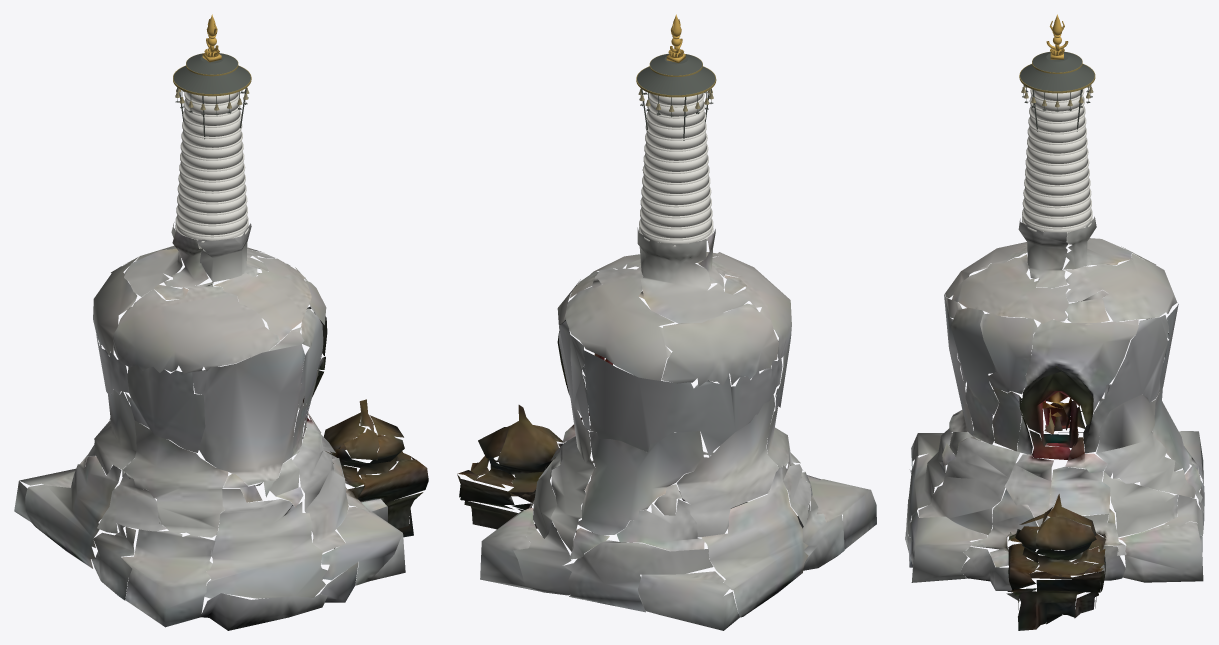
The model's file is preview.glb.
3 renders of one model, left to right at view 1: azimuth 30°, elevation 25°; view 2: azimuth 150°, elevation 25°; view 3: azimuth 270°, elevation 25°, orthographic. The views are drawn at different scales.
Visible parts, largest first — view 1: Beihai photo referenced lower stupa, Beihai white, Beihai rim, Beihai bronze; view 2: Beihai photo referenced lower stupa, Beihai white, Beihai rim, Beihai bronze; view 3: Beihai photo referenced lower stupa, Beihai white, Beihai rim, Beihai bronze, Beihai gold.
Boxes of the visible parts, x1,y1,x2,y2 form: Beihai photo referenced lower stupa: (14,222,428,630); Beihai white: (175,92,248,242); Beihai rim: (175,91,248,237); Beihai bronze: (173,53,250,139); Beihai photo referenced lower stupa: (457,227,876,630); Beihai white: (639,93,713,246); Beihai rim: (639,93,713,240); Beihai bronze: (637,54,715,140); Beihai photo referenced lower stupa: (905,216,1204,630); Beihai white: (1022,89,1092,235); Beihai rim: (1022,89,1092,229); Beihai bronze: (1020,52,1094,131); Beihai gold: (1046,14,1068,59).
Bounding box in the file's own units: 0.2188 × 0.359 × 0.1829.
7 materials, 1 textured.
